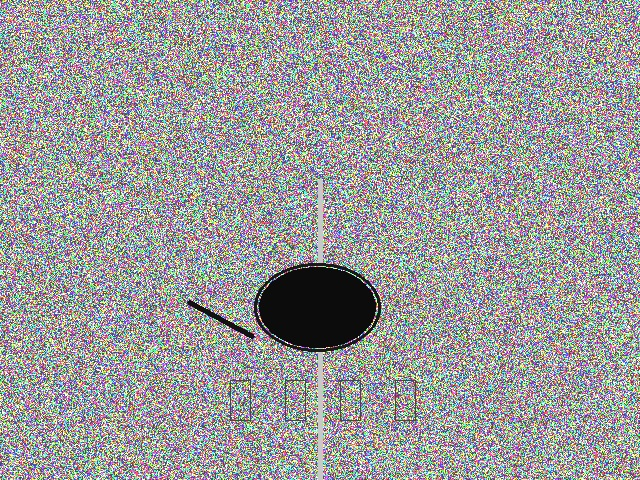crack: (183, 296, 258, 342)
no_zebracrossing: (195, 370, 445, 430)
pothole: (259, 267, 375, 347)
